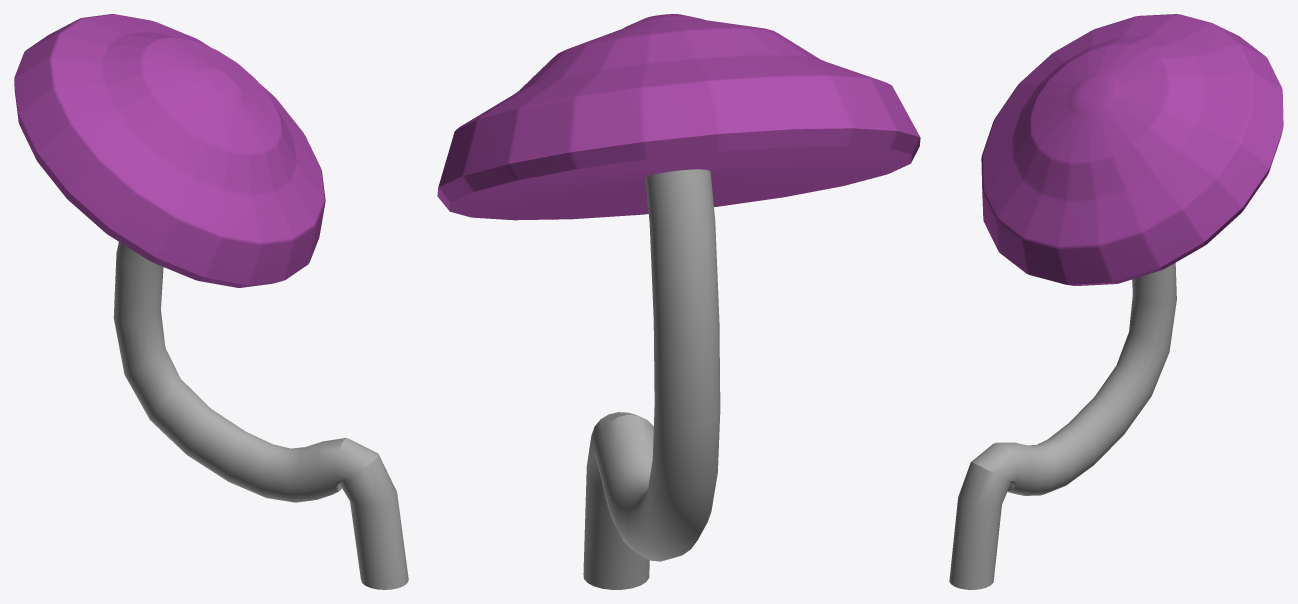
File: mushroom flat 2.fbx
3 renders of one model, left to right at view 1: azimuth 30°, elevation 25°; view 2: azimuth 150°, elevation 25°; view 3: azimuth 270°, elevation 25°, orthographic. The views are drawn at different scales.
Parts seen in each view (by area): view 1: mushroom_flat_2; view 2: mushroom_flat_2; view 3: mushroom_flat_2.
Boxes of the visible parts, x1,y1,x2,y2 form: mushroom_flat_2: (14,14,408,589); mushroom_flat_2: (437,14,920,589); mushroom_flat_2: (949,14,1283,589).
Size of the model in its own units: 0.293 by 0.3066 by 0.4729.
